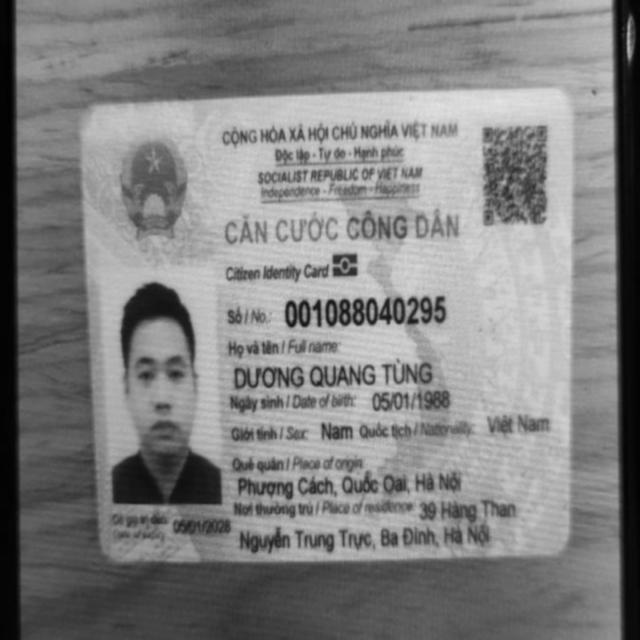bottom_left: (81, 528, 132, 574)
bottom_right: (544, 526, 580, 569)
image_person: (103, 269, 223, 503)
top_left: (72, 91, 110, 139)
top_right: (534, 74, 586, 128)
